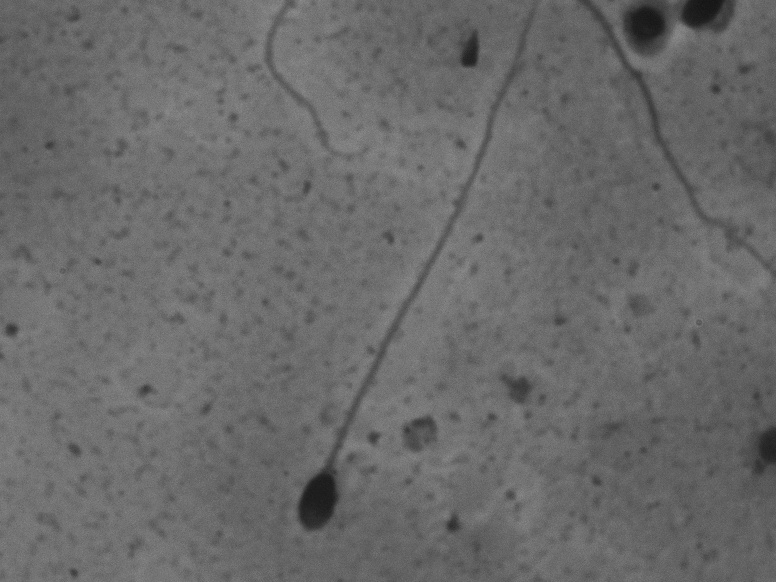Normal: (289, 7, 544, 543)
